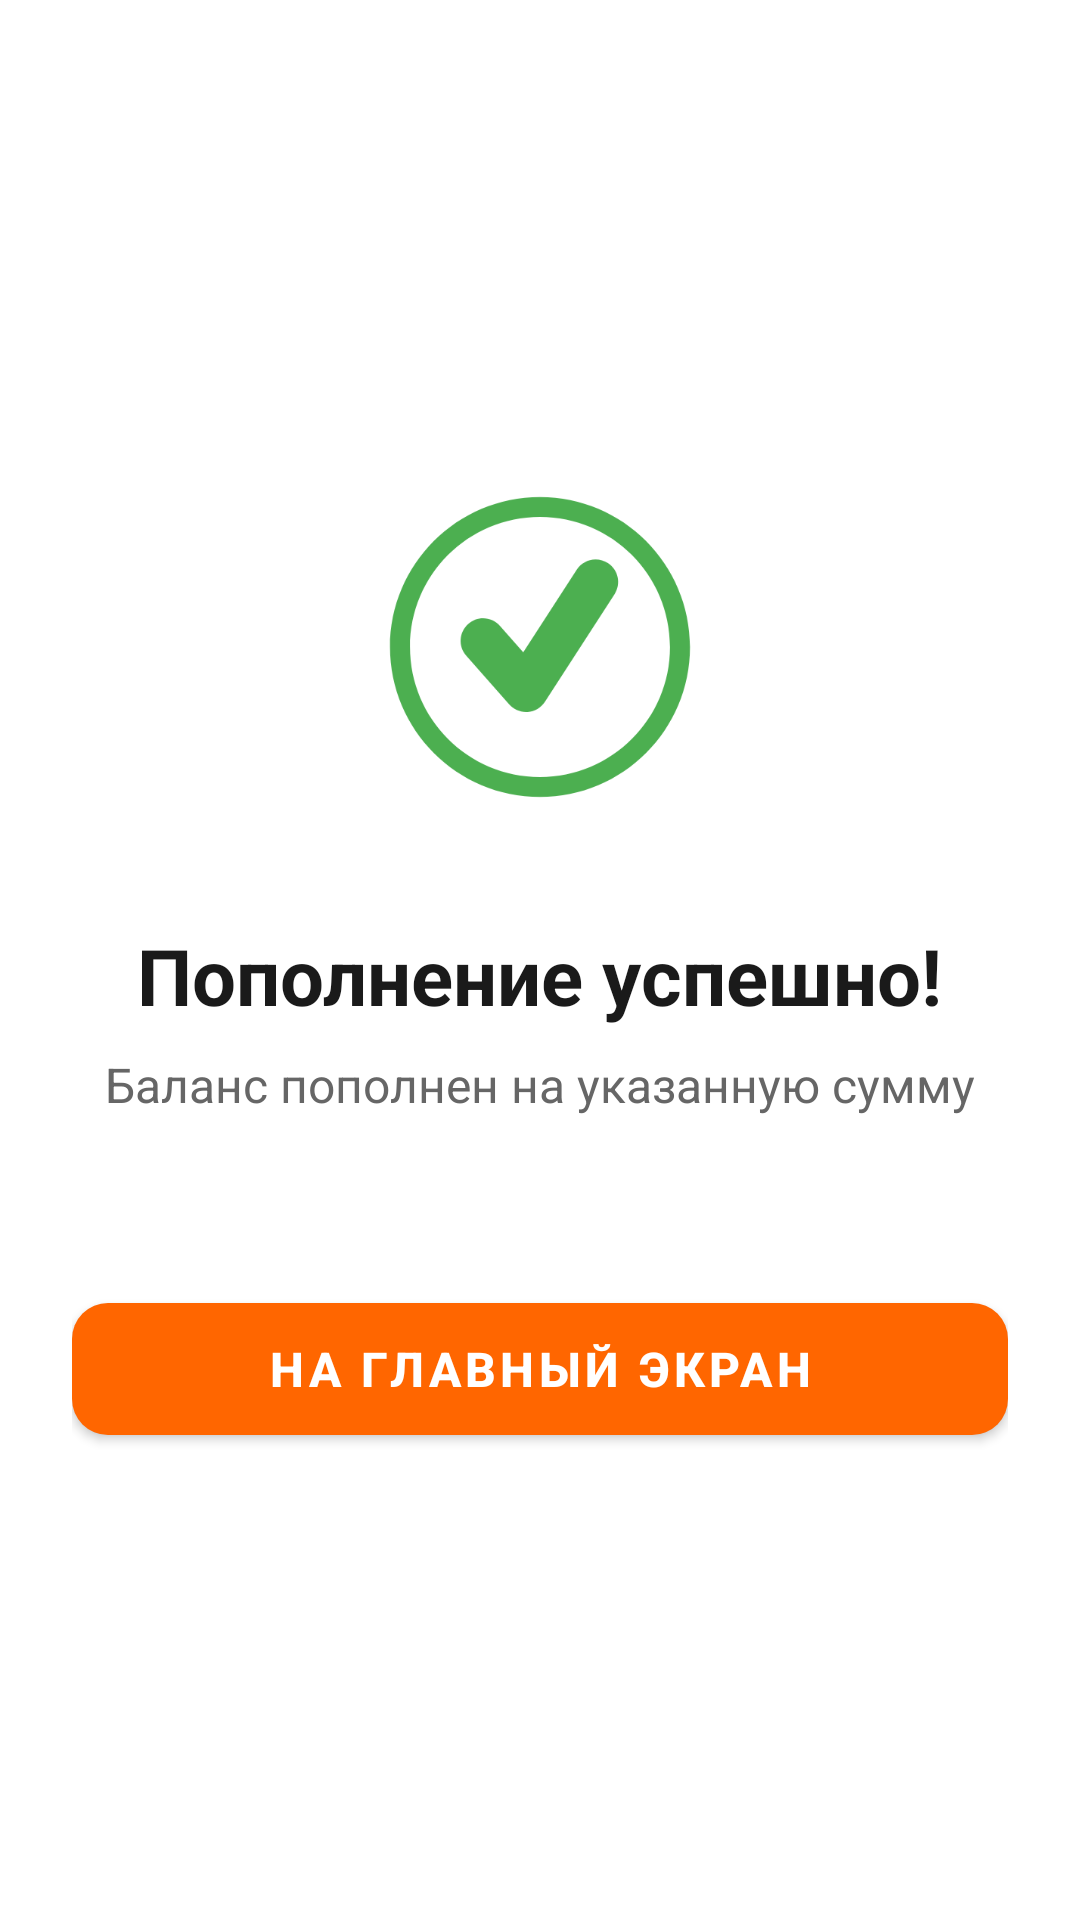

Screen size 1080×1920. Icon name, then its box in pixels as bbox=(x1, y1, x2, y2):
Успешная оплата: bbox=(389, 497, 691, 797)
